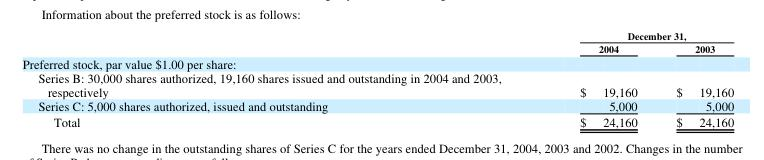table: (21, 28, 733, 129)
table column: (21, 28, 539, 129), (539, 28, 656, 129), (656, 28, 733, 129)
table column header: (21, 28, 733, 55)
table projected row header: (21, 55, 733, 69)
table row: (21, 69, 733, 97), (21, 112, 733, 129), (21, 97, 733, 112), (21, 28, 733, 42), (21, 55, 733, 69), (21, 42, 733, 55)
table spanning cell: (539, 28, 733, 42)
